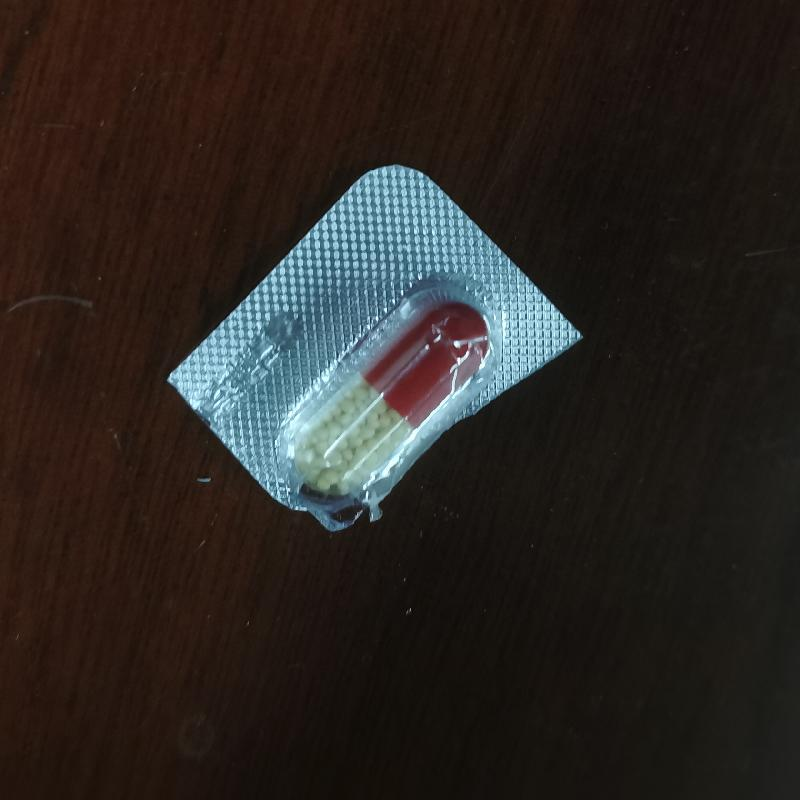pills: (255, 267, 509, 509)
